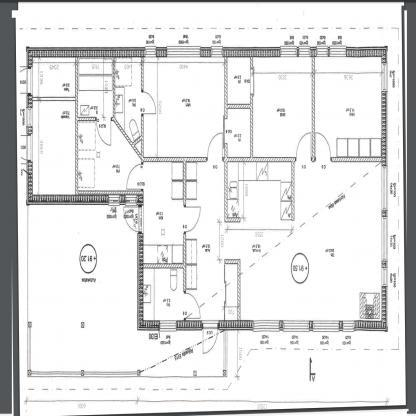door: (201, 320, 222, 358), (121, 205, 146, 235), (292, 131, 314, 165), (182, 204, 204, 235), (126, 159, 146, 193), (94, 116, 115, 148), (182, 292, 203, 324), (313, 132, 332, 164), (206, 131, 224, 164), (139, 89, 158, 118)
window: (163, 43, 202, 63), (377, 213, 390, 266), (279, 316, 312, 336), (312, 318, 341, 340), (250, 318, 282, 335), (379, 163, 390, 212), (378, 61, 391, 99), (276, 42, 299, 61), (142, 39, 159, 64), (341, 317, 360, 338), (23, 66, 35, 98), (157, 315, 177, 334), (328, 44, 349, 62), (24, 132, 35, 166), (314, 39, 330, 62), (24, 104, 36, 131), (123, 190, 140, 209), (210, 43, 226, 63), (106, 192, 121, 209), (298, 42, 310, 63), (379, 263, 388, 290)
